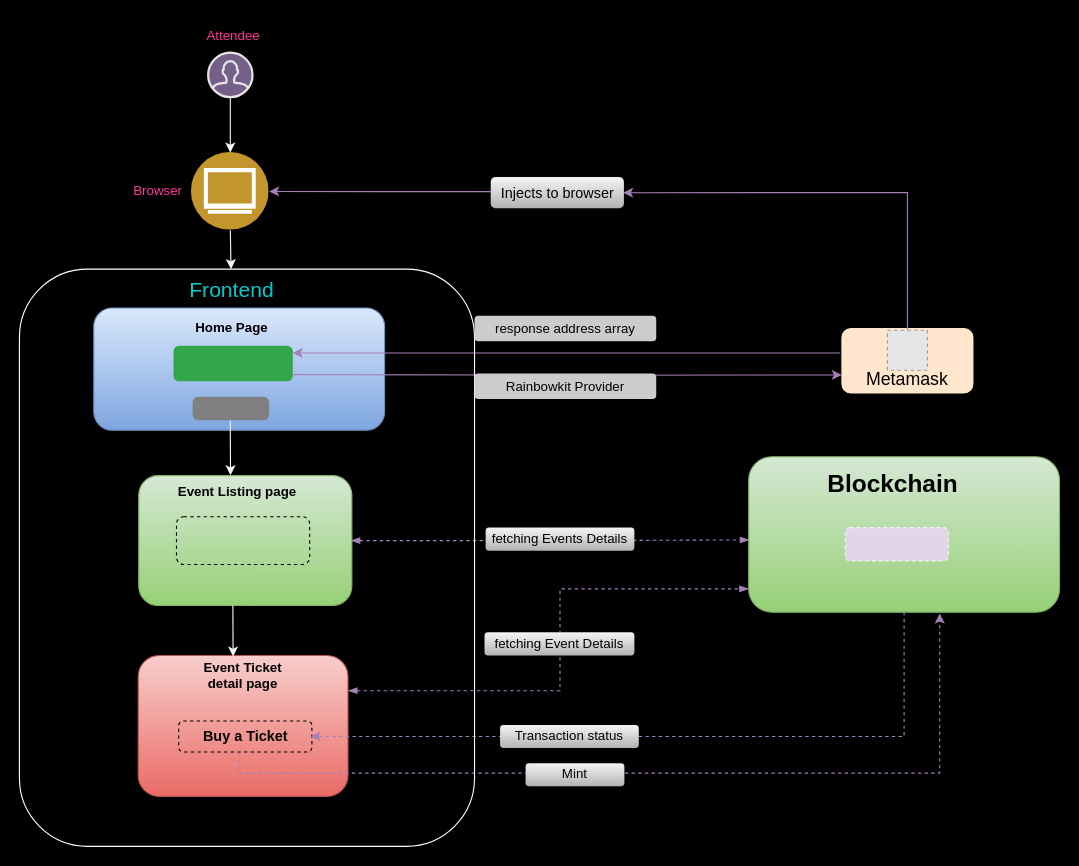
This 1079x866 diagram has some shape labels left out. Grey dashed boxes stand in for pictures. Each missing label, with the centre of its shape:
connect: the point at 232,363
Events: the point at 230,408
Listing Events: the point at 242,540
smart contracts: the point at 896,543
